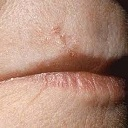Carcinoma: (50, 25, 71, 46)
